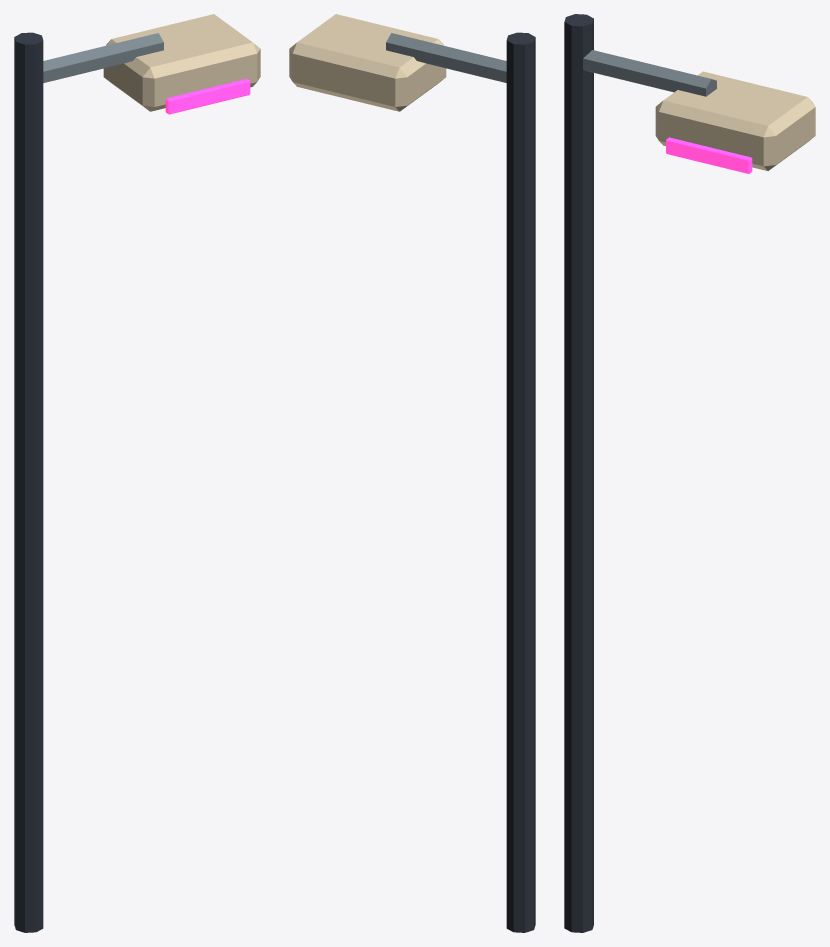
File: street_005_seed100.glb
3 renders of one model, left to right at view 1: azimuth 30°, elevation 25°; view 2: azimuth 150°, elevation 25°; view 3: azimuth 330°, elevation 25°, orthographic. The views are drawn at different scales.
Parts seen in each view (by area): view 1: street_005_seed100; view 2: street_005_seed100; view 3: street_005_seed100.
Boxes of the visible parts, x1,y1,x2,y2 form: street_005_seed100: (14,14,260,932); street_005_seed100: (289,14,535,932); street_005_seed100: (564,14,815,932).
Size of the model in its own units: 0.955 by 3.6 by 0.3775.
